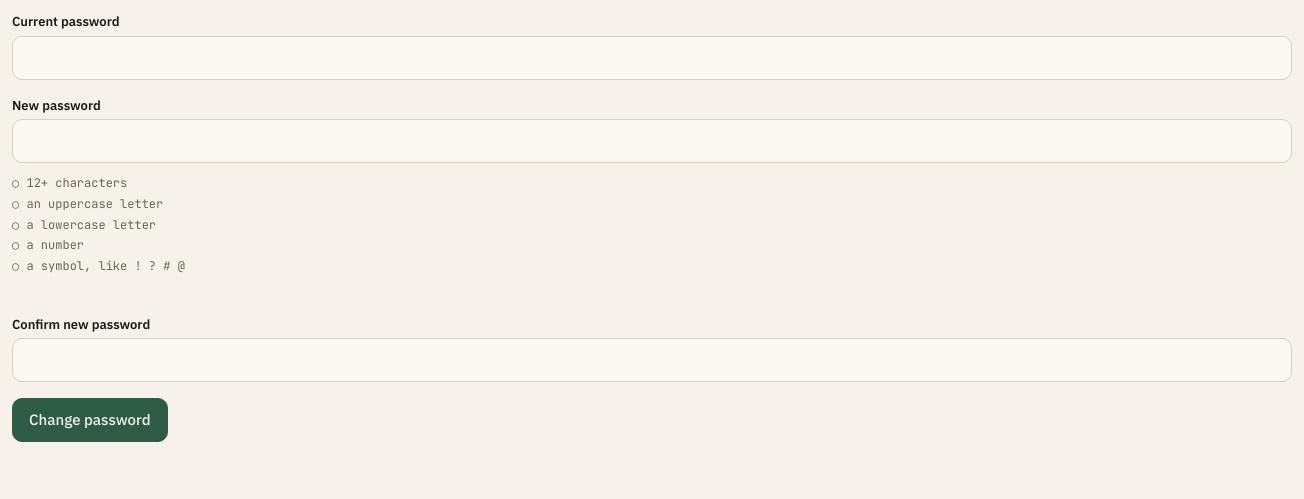
Test: ChangePassword › needs a strong new password, typed twice, before changing it
Type "old-Pass1!" into the password field labelled "Current password" at (652, 58), box [12,36,1292,80]
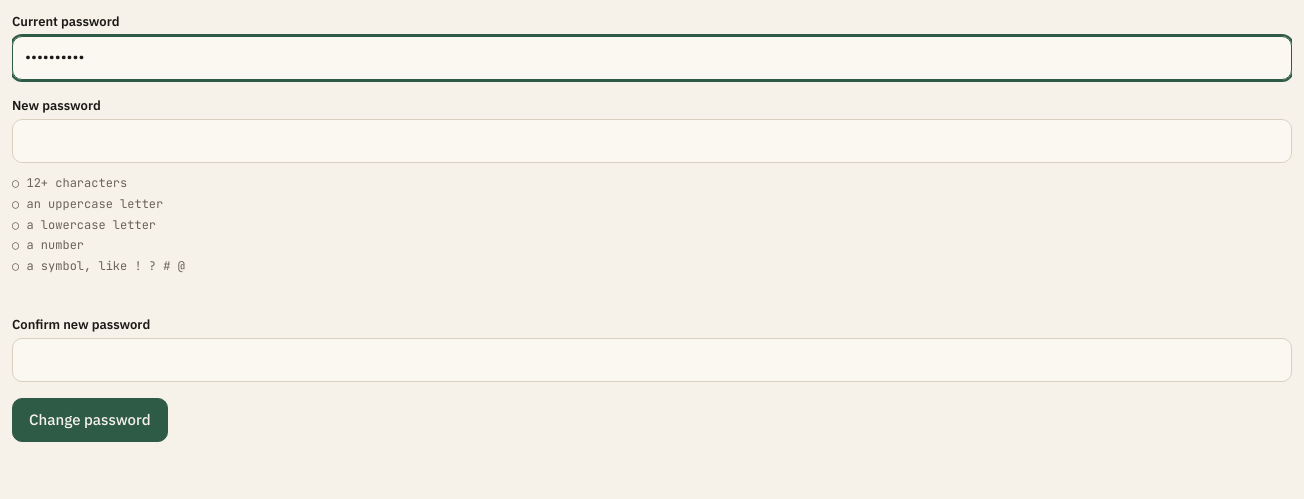
Type "12345678" into the password field labelled "New password" at (652, 141), box [12,119,1292,163]
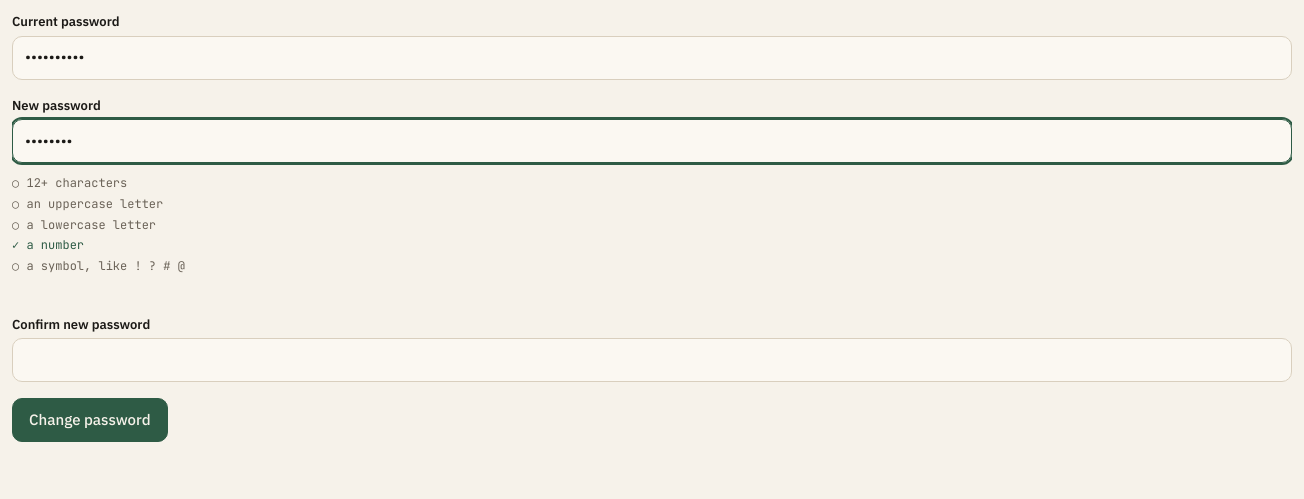
Type "12345678" into the password field labelled "Confirm new password" at (652, 360), box [12,338,1292,382]
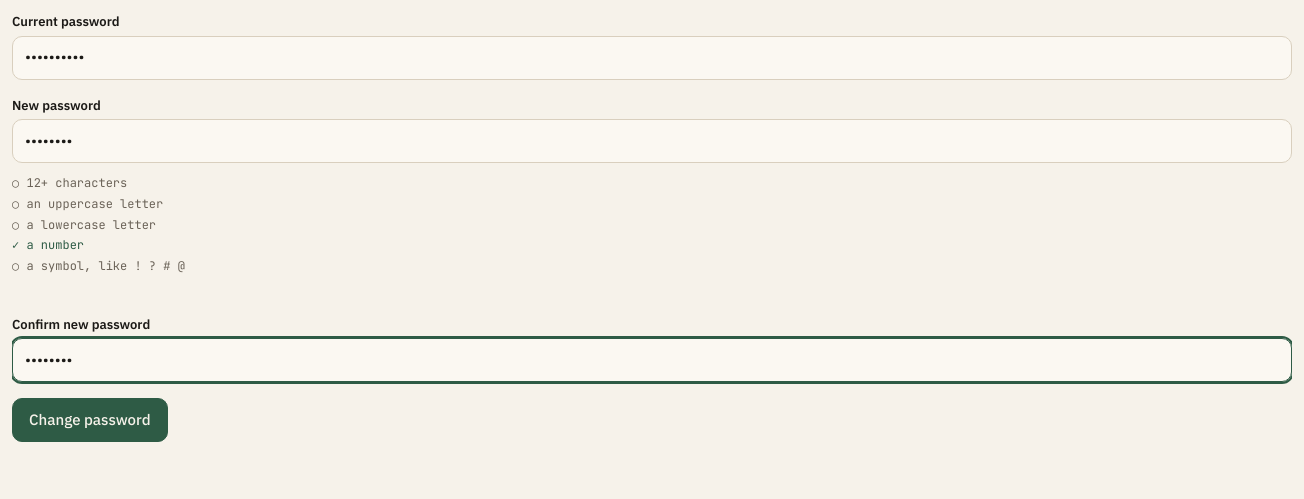
Click the button "Change password" at (90, 420), box [12,398,168,442]
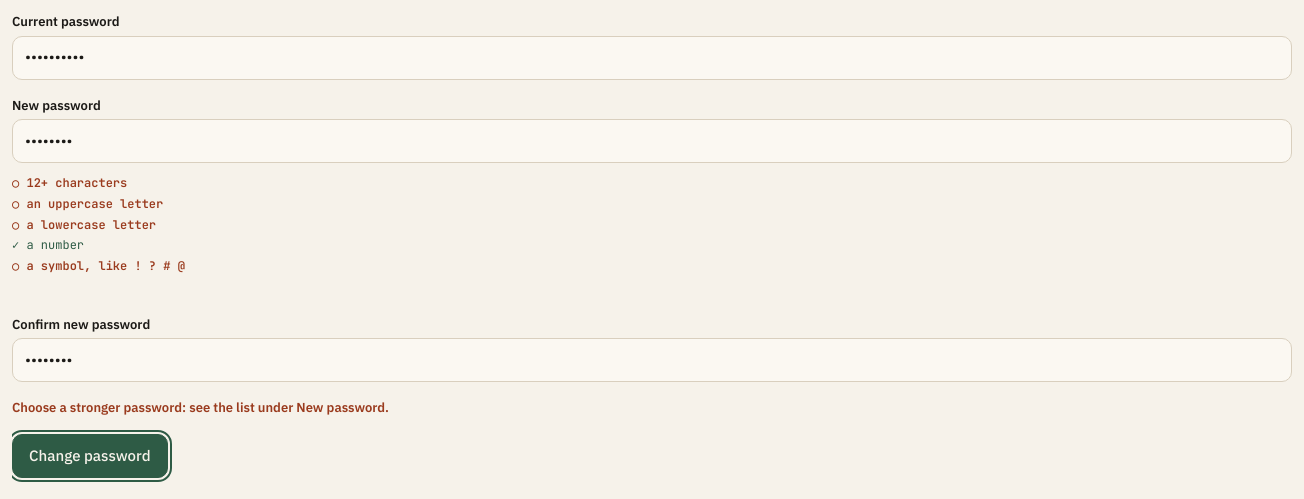
expect the message shows "stronger password": met, box [12,400,389,416]
